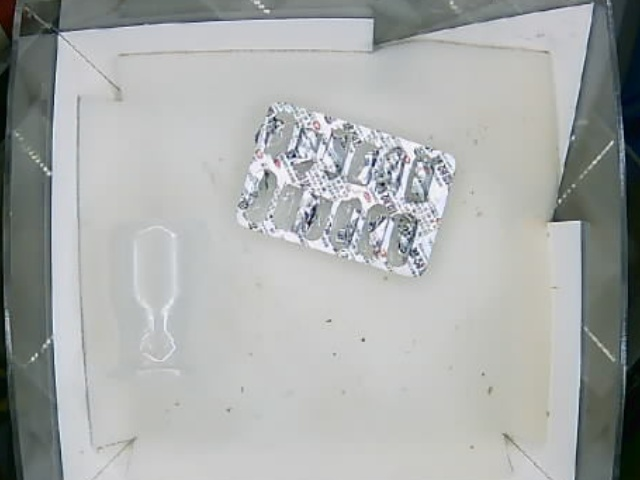Bottle: (119, 222, 194, 382)
Medicine: (235, 101, 459, 277)
